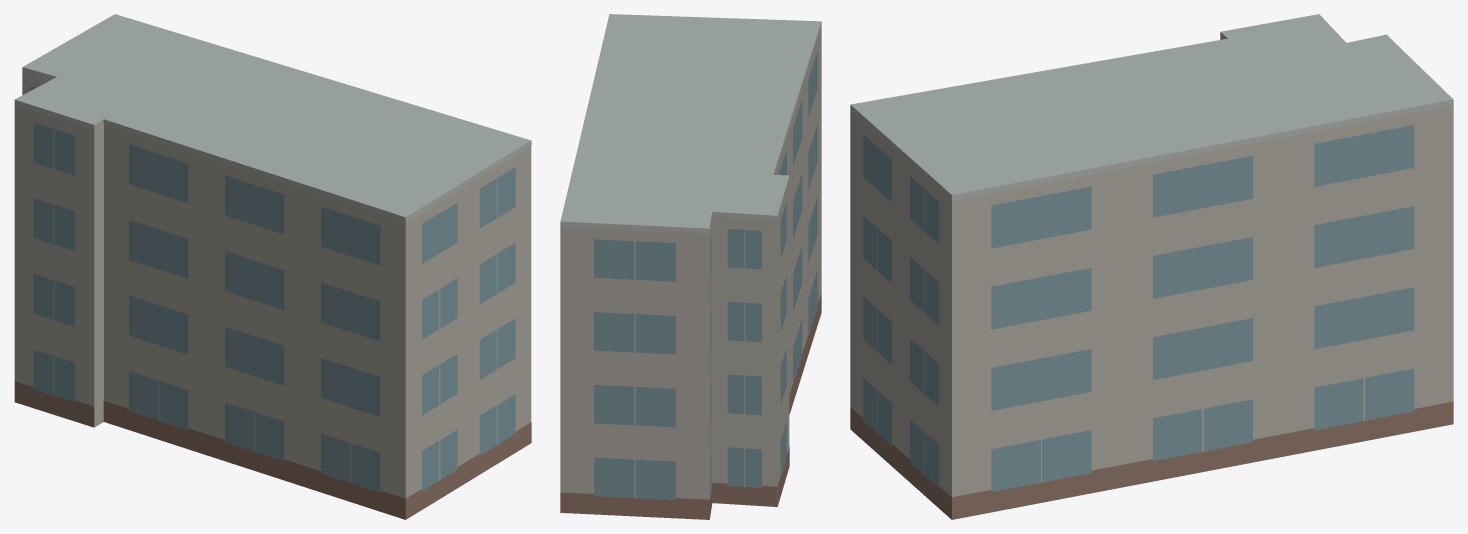
The model's file is survey-upis-33045759.glb.
3 views of the same model, side by side, from view 1: azimuth 30°, elevation 25°; view 2: azimuth 150°, elevation 25°; view 3: azimuth 270°, elevation 25° (orthographic). The views are drawn at different scales.
Visible parts, largest first — view 1: survey-upis-33045759.tmp; view 2: survey-upis-33045759.tmp; view 3: survey-upis-33045759.tmp.
Part boxes in pixels (left/top/right/bottom): survey-upis-33045759.tmp: left=14, top=14, right=531, bottom=519; survey-upis-33045759.tmp: left=560, top=14, right=821, bottom=519; survey-upis-33045759.tmp: left=850, top=14, right=1453, bottom=519.
Size of the model in its own units: 15.79 by 13.2 by 22.23.
